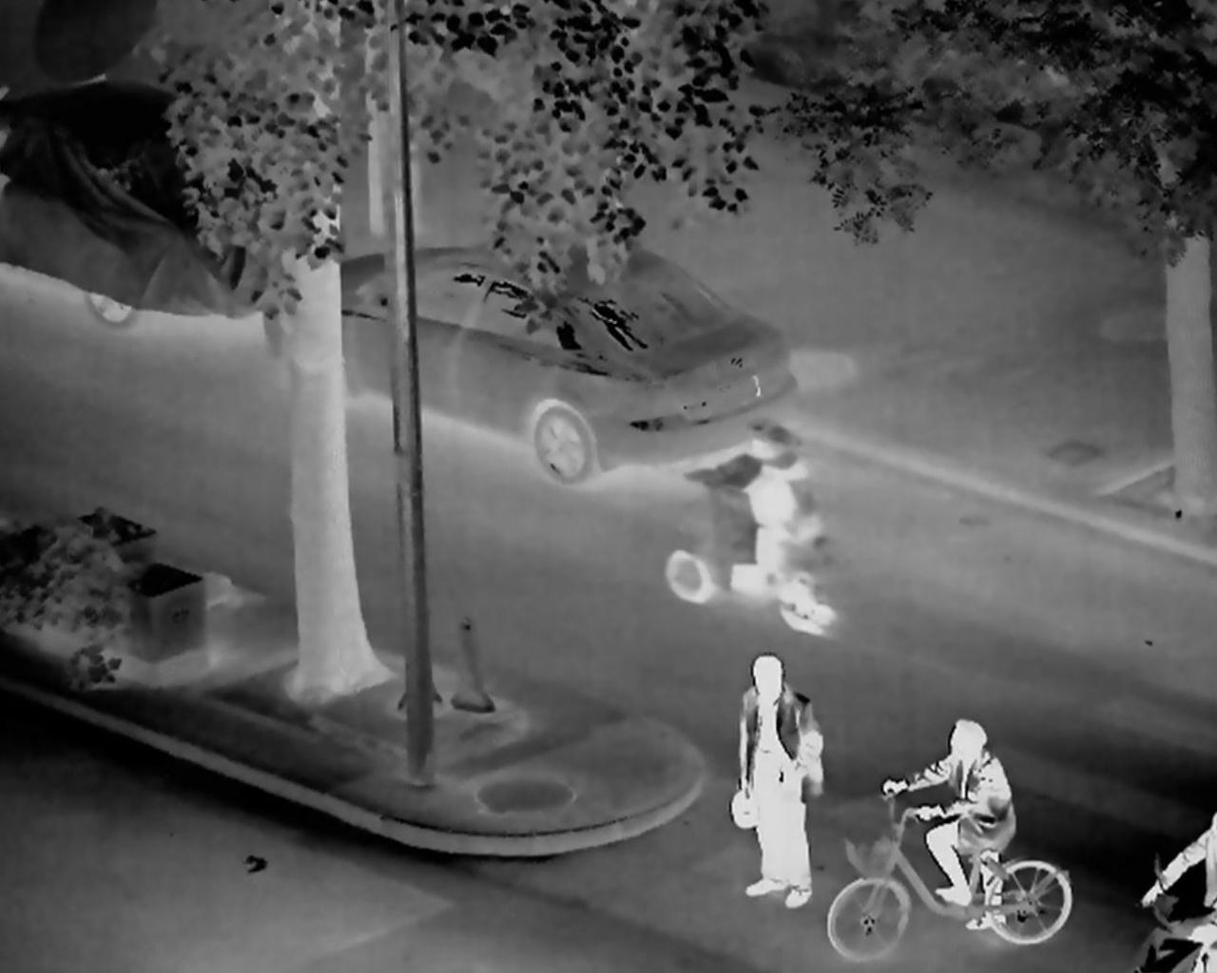person: (880, 716, 1016, 929), (729, 655, 824, 908), (710, 424, 820, 610), (1142, 802, 1217, 964)
